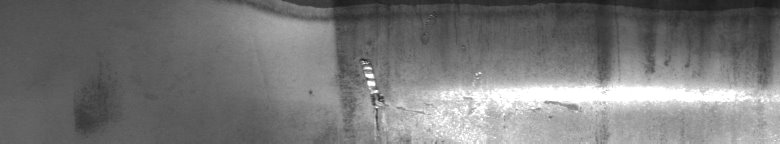ke: (292, 4, 624, 129)
